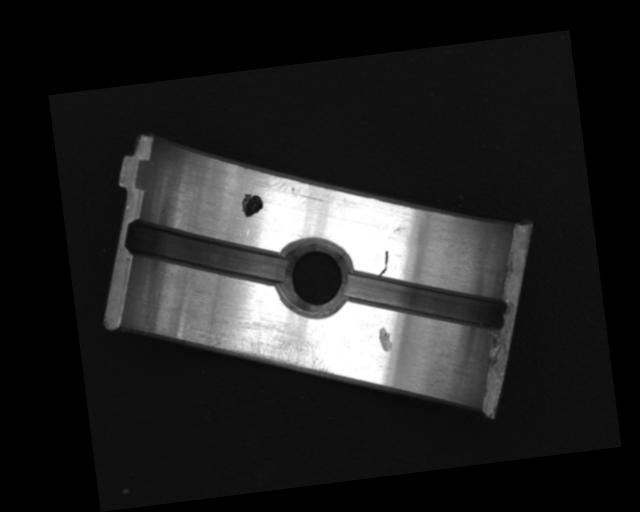blot: (239, 190, 265, 219)
bruise: (376, 324, 394, 354)
gap: (123, 203, 292, 299), (343, 255, 509, 348)
hole: (272, 236, 360, 322)
nick: (375, 250, 391, 277)
scratch: (195, 313, 336, 392)
